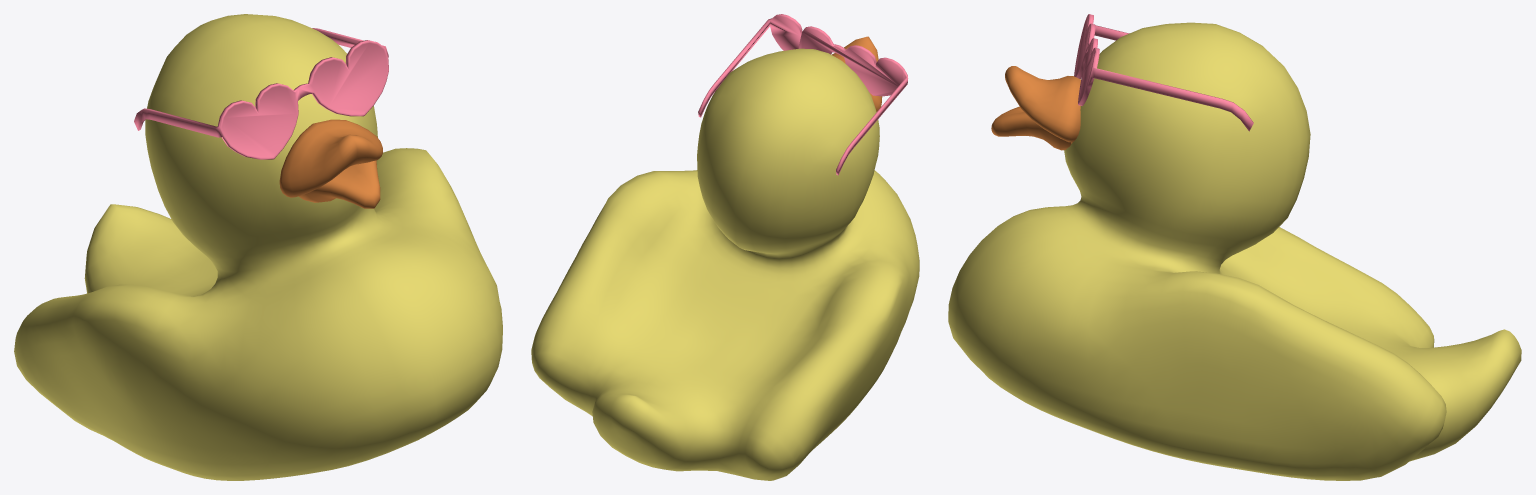
The model's file is Canard.fbx.
3 views of the same model, side by side, from view 1: azimuth 30°, elevation 25°; view 2: azimuth 150°, elevation 25°; view 3: azimuth 270°, elevation 25° (orthographic). The views are drawn at different scales.
Parts seen in each view (by area): view 1: Canard; view 2: Canard; view 3: Canard.
Part boxes in pixels (left/top/right/bottom): Canard: left=14, top=14, right=502, bottom=480; Canard: left=531, top=14, right=919, bottom=480; Canard: left=948, top=14, right=1521, bottom=480.
Bounding box in the file's own units: 169 × 207 × 254.
